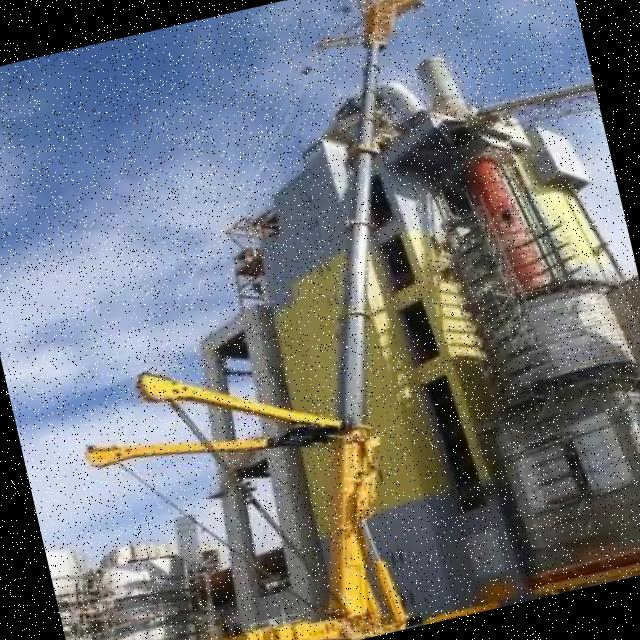Mobile Crane: (0, 0, 557, 640)
